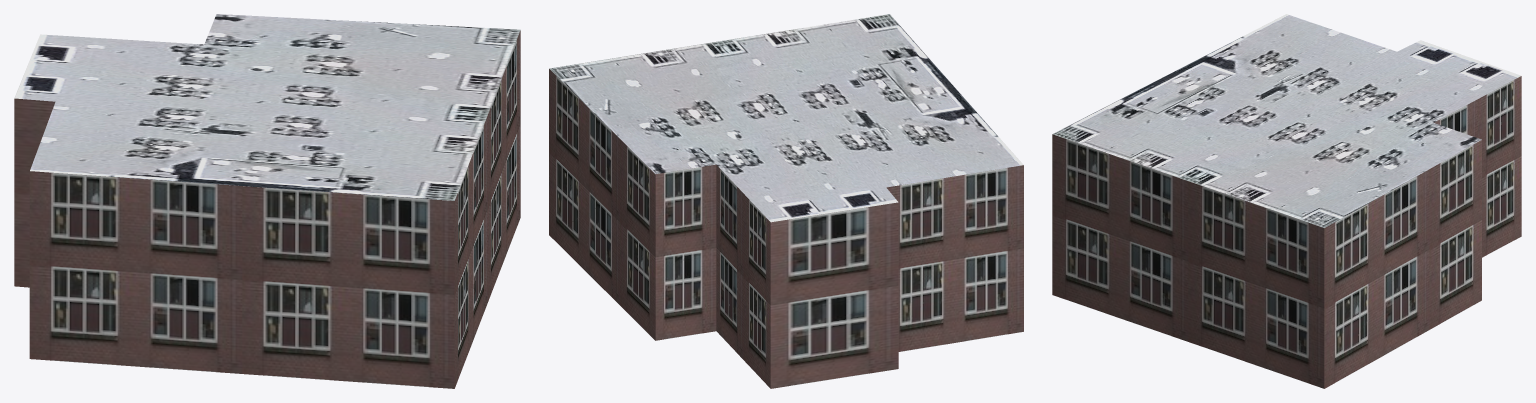
The model's file is ResTex__1154.fbx.
3 views of the same model, side by side, from view 1: azimuth 30°, elevation 25°; view 2: azimuth 150°, elevation 25°; view 3: azimuth 270°, elevation 25° (orthographic). The views are drawn at different scales.
Visible parts, largest first — view 1: CityEngineMaterial_12_m, CityEngineMaterial_8_m; view 2: CityEngineMaterial_12_m, CityEngineMaterial_8_m; view 3: CityEngineMaterial_12_m, CityEngineMaterial_8_m.
Part boxes in pixels (left/top/right/bottom): CityEngineMaterial_12_m: left=14, top=30, right=520, bottom=388; CityEngineMaterial_8_m: left=14, top=14, right=520, bottom=200; CityEngineMaterial_12_m: left=549, top=69, right=1023, bottom=388; CityEngineMaterial_8_m: left=549, top=14, right=1023, bottom=222; CityEngineMaterial_12_m: left=1052, top=76, right=1521, bottom=388; CityEngineMaterial_8_m: left=1052, top=14, right=1521, bottom=227.
Bounding box in the file's own units: 17.14 × 6 × 15.88.
2 materials, 2 textured.
